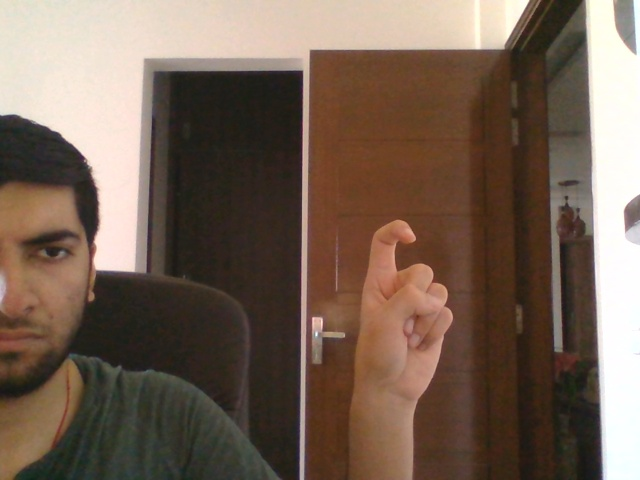LetterX: (351, 216, 457, 413)
